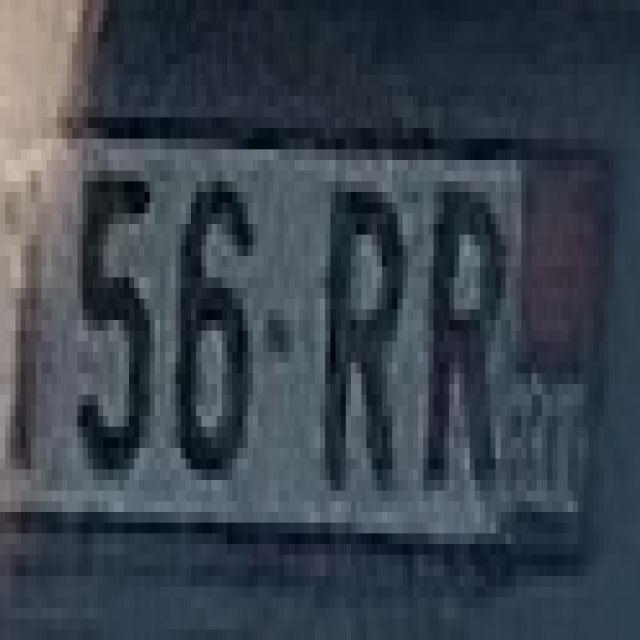Autre: (3, 122, 618, 553)
